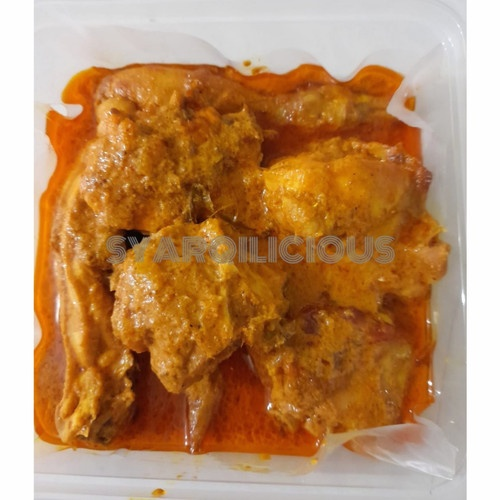gulai_ayam: (39, 58, 444, 461)
